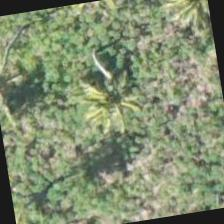Kelapa_Sawit: (61, 53, 164, 156), (146, 0, 214, 54)
